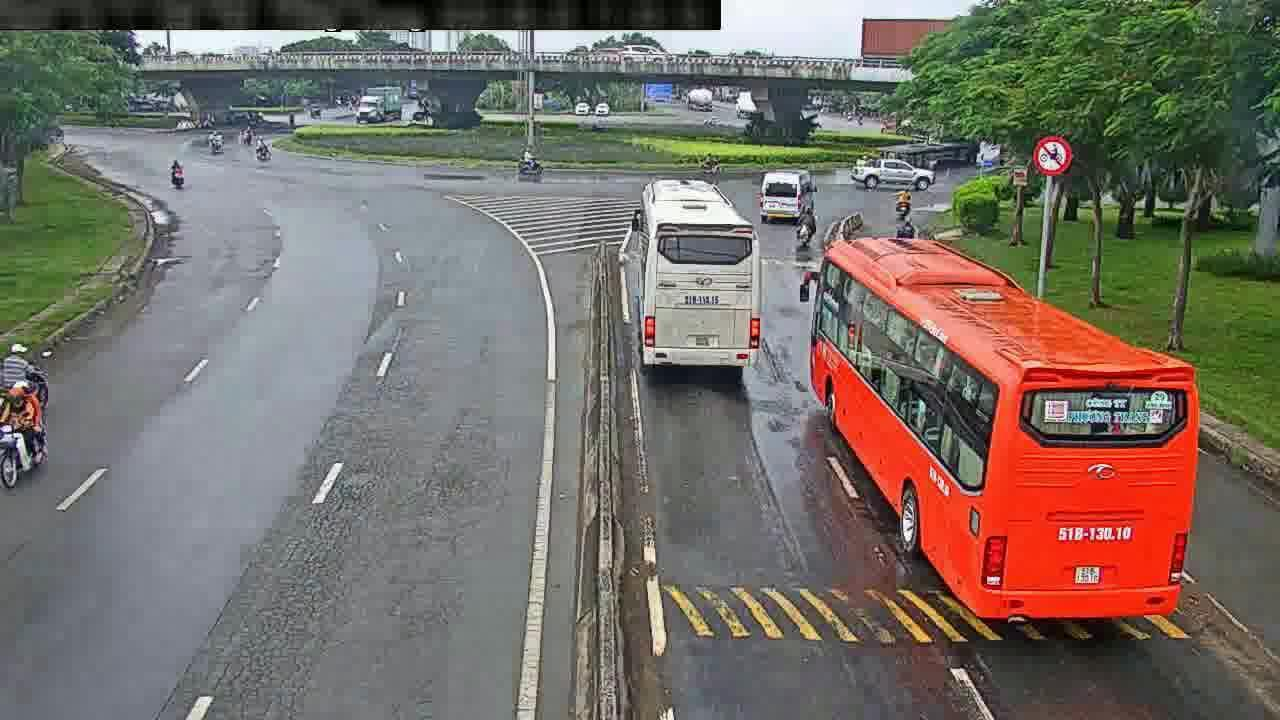14: (799, 241, 1207, 622), (634, 175, 768, 370), (753, 169, 815, 223)
motorbike: (788, 206, 820, 248), (514, 148, 546, 177), (167, 159, 189, 195)
